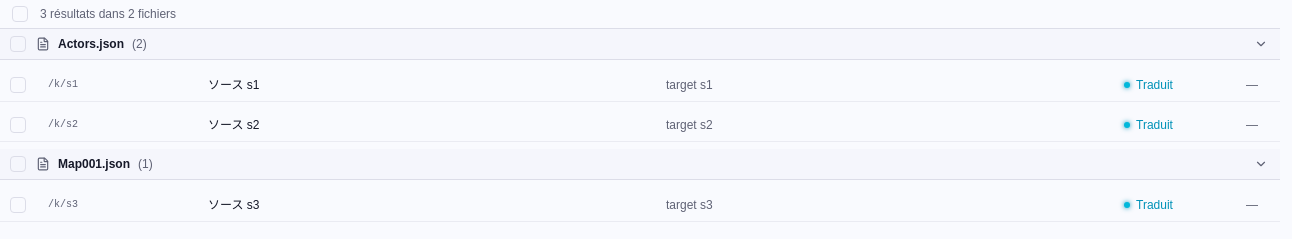
it: GlobalSearchResults — collapse/expand per file › collapses a file's hits (header and count stay), then expands them back
Click the button named "Replier Actors.json": [1261, 44] box [1242, 33, 1280, 55]
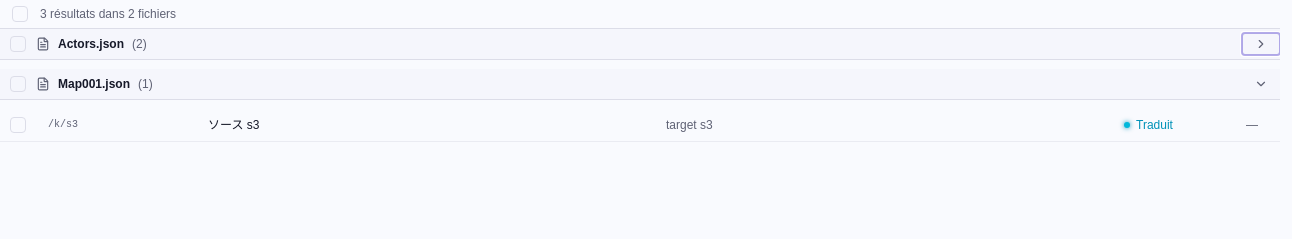
Expected: the text "ソース s3" is shown, [208, 117, 259, 133]
Expected: the text "ソース s1" is gone
Expected: the text "ソース s2" is gone
Click the button named "Déplier Actors.json": [1261, 44] box [1242, 33, 1280, 55]
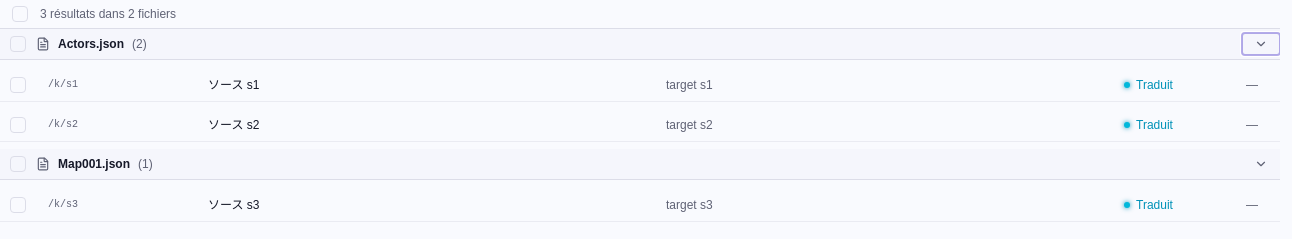
Expected: the text "ソース s1" is shown, [208, 77, 259, 93]
Expected: the text "ソース s2" is shown, [208, 117, 259, 133]
